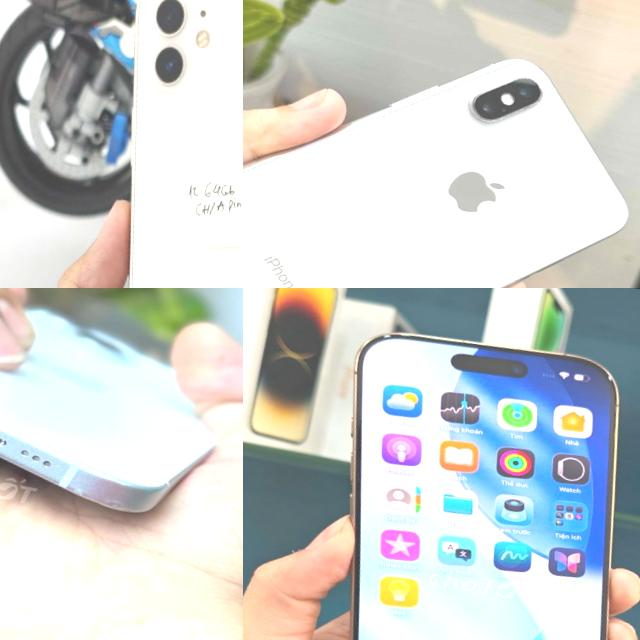scratch: (57, 471, 154, 519)
